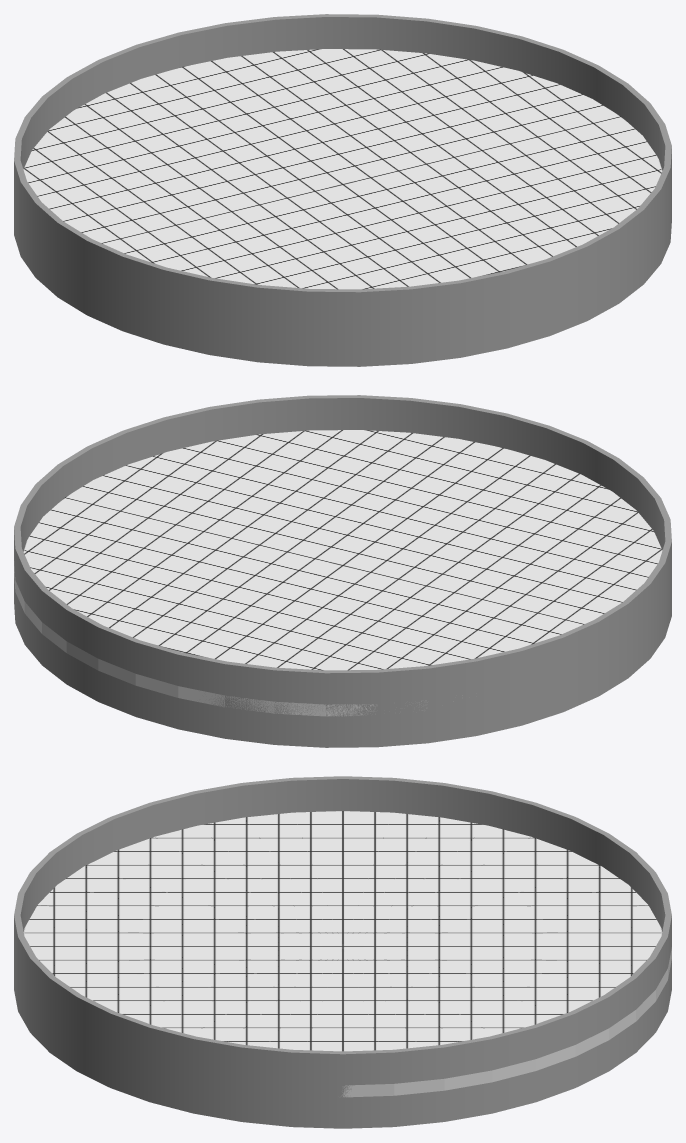
3 renders of one model, top to bottom at view 1: azimuth 30°, elevation 25°; view 2: azimuth 150°, elevation 25°; view 3: azimuth 270°, elevation 25°, orthographic.
Visible parts, largest first — view 1: Ground, Wall; view 2: Ground, Wall; view 3: Ground, Wall.
Boxes of the visible parts, x1,y1,x2,y2 form: Ground: (23,49,662,289); Wall: (14,14,671,366); Ground: (14,430,662,716); Wall: (14,395,671,747); Ground: (23,811,671,1097); Wall: (14,776,671,1128).
Size of the model in its own units: 2000 by 250 by 2000.
3 materials, 1 textured.
